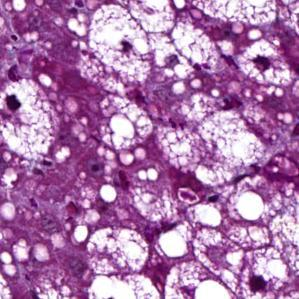ballooning: (5, 77, 62, 164), (88, 3, 150, 73), (84, 226, 151, 278), (235, 39, 293, 89)
